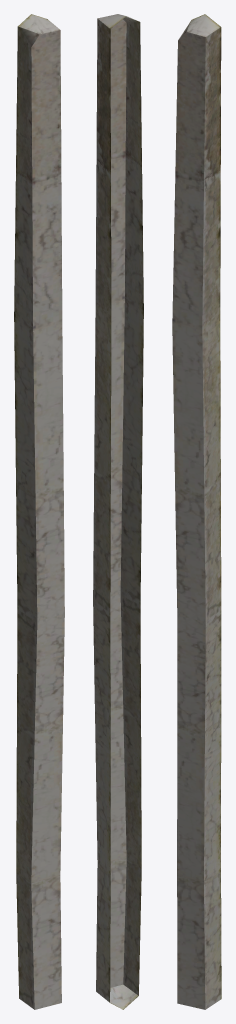
Rendered from border_10m_white_edge.glb.
3 renders of one model, left to right at view 1: azimuth 30°, elevation 25°; view 2: azimuth 210°, elevation 25°; view 3: azimuth 330°, elevation 25°, orthographic.
Parts seen in each view (by area): view 1: set_0_group_0; view 2: set_0_group_0; view 3: set_0_group_0.
Part boxes in pixels (box(x1,y1,x2,y2)): set_0_group_0: box(14, 14, 64, 1009); set_0_group_0: box(93, 14, 143, 1009); set_0_group_0: box(172, 14, 221, 1009).
Size of the model in its own units: 0.3698 by 10.21 by 0.3232.
1 material, 1 textured.
